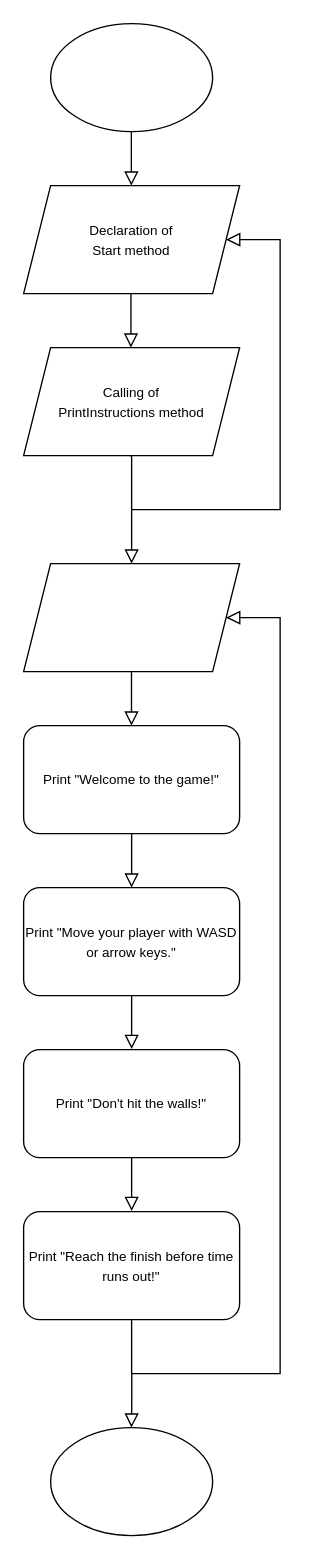
Some shapes in this 317 by 1559 pixel diagram are drawn without their labels. The centre of each missing label's shape, as x and y in pixels:
Declaration of PrintInstructions method: point 131,617
End: point 131,1481
Start: point 131,77
